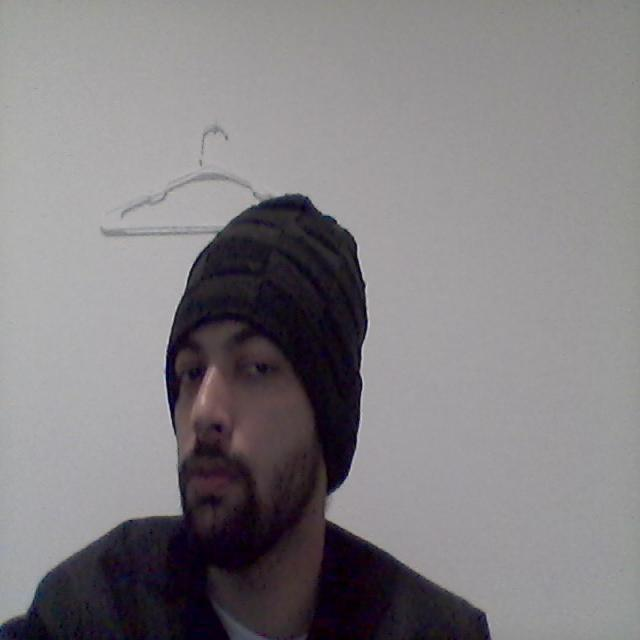cap: (146, 180, 414, 448)
